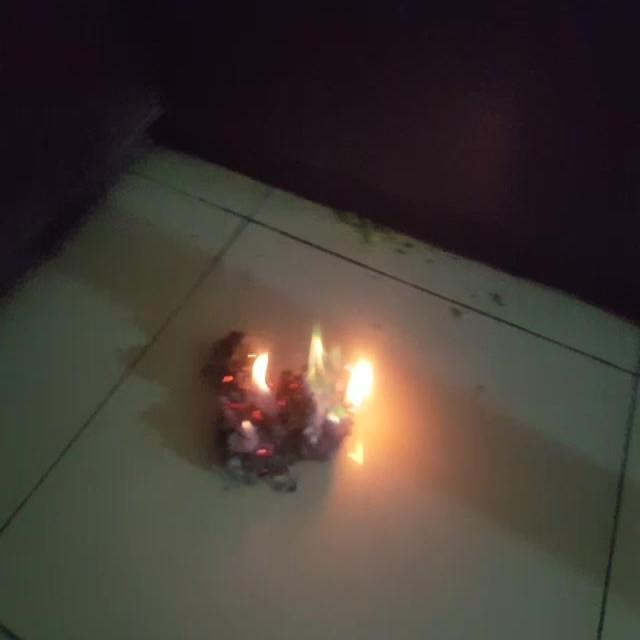Fire: (305, 321, 374, 408), (250, 346, 270, 394)
